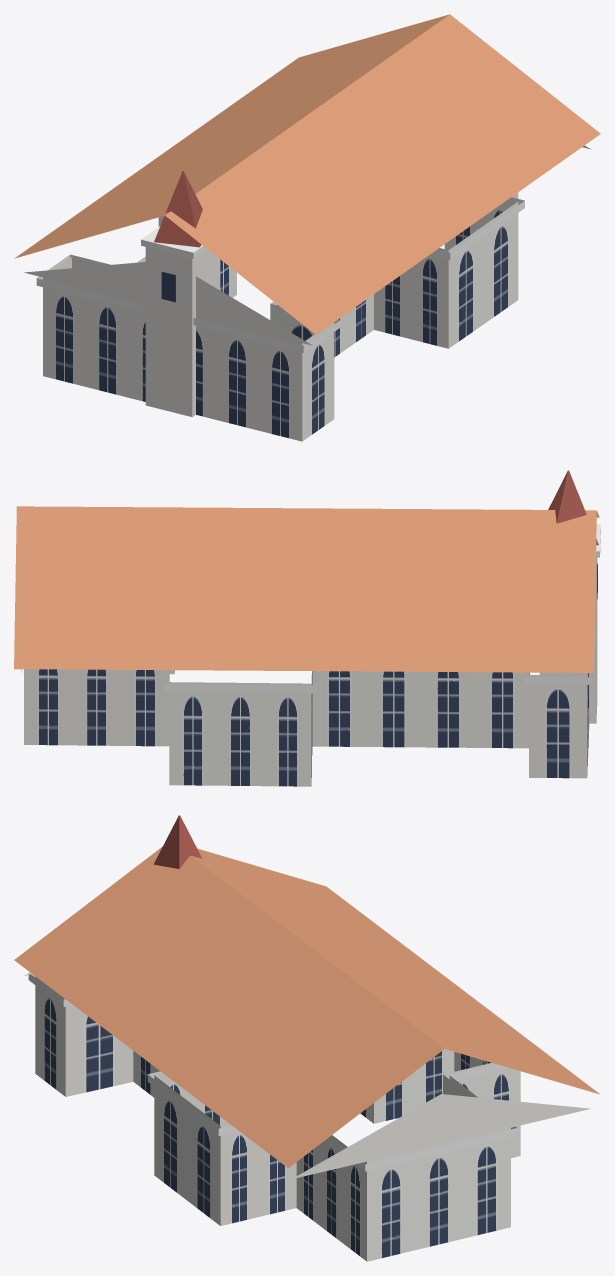
Rendered from protestant_old.glb.
3 views of the same model, one above another, from view 1: azimuth 30°, elevation 25°; view 2: azimuth 150°, elevation 25°; view 3: azimuth 270°, elevation 25° (orthographic). The views are drawn at different scales.
Parts seen in each view (by area): view 1: protestant_old_lod0; view 2: protestant_old_lod0; view 3: protestant_old_lod0.
Boxes of the visible parts, x1,y1,x2,y2 form: protestant_old_lod0: (14,14,600,441); protestant_old_lod0: (14,470,600,786); protestant_old_lod0: (14,815,600,1261).
Size of what is drawn, in the model's own units: 48.24 by 18.7 by 42.46.
6 materials, 1 textured.
